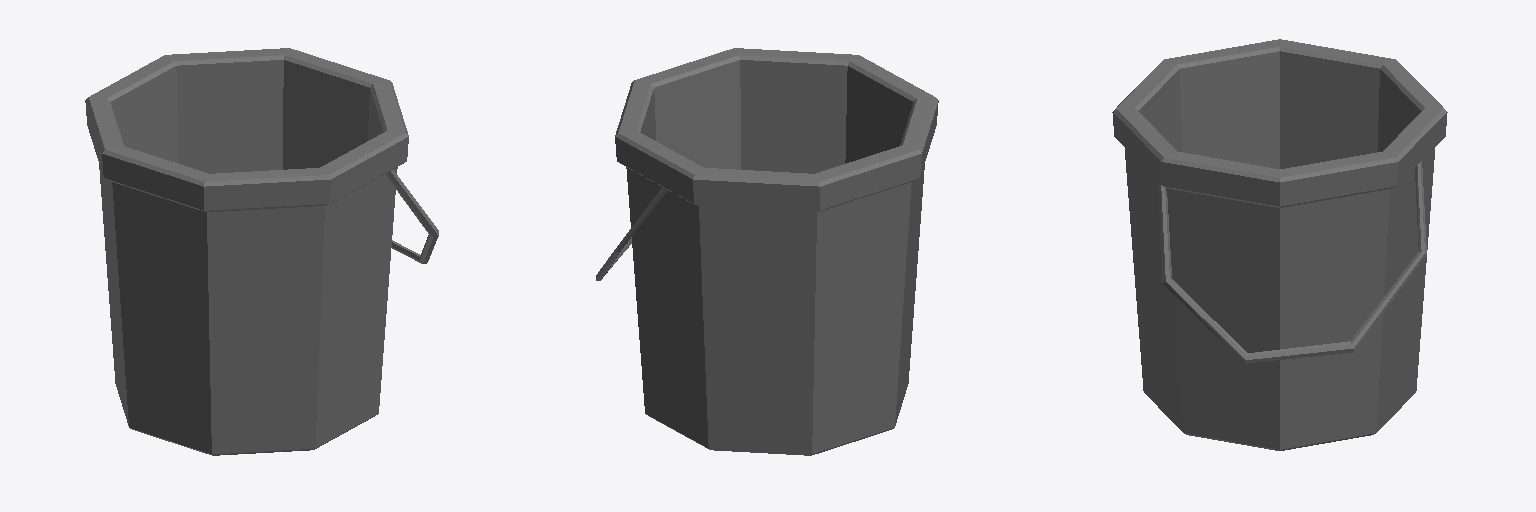
The model's file is ember.obj.
3 views of the same model, side by side, from view 1: azimuth 30°, elevation 25°; view 2: azimuth 150°, elevation 25°; view 3: azimuth 270°, elevation 25° (orthographic).
Parts seen in each view (by area): view 1: pCylinder39, pCylinder40; view 2: pCylinder39, pCylinder40; view 3: pCylinder39, pCylinder40.
Boxes of the visible parts, box(x1,y1,x2,y2) form: pCylinder39: box(85, 48, 408, 455); pCylinder40: box(386, 170, 438, 263); pCylinder39: box(615, 48, 938, 455); pCylinder40: box(596, 187, 668, 280); pCylinder39: box(1112, 39, 1447, 450); pCylinder40: box(1158, 161, 1426, 363).
Size of the model in its own units: 1.17 by 1.04 by 1.1.